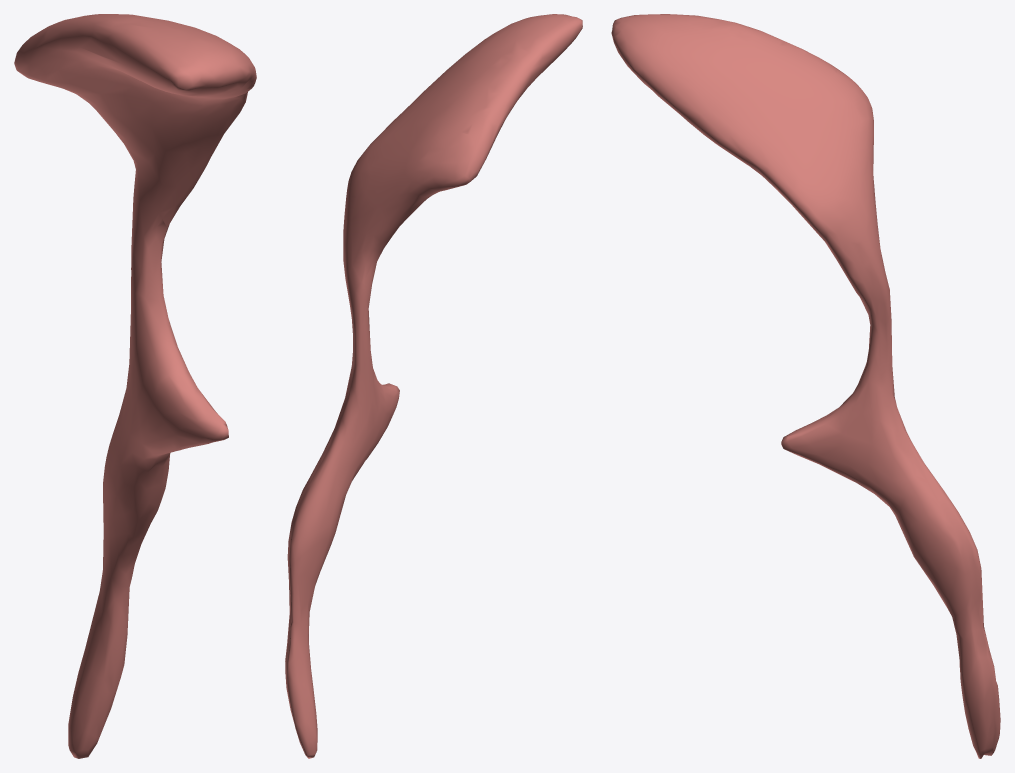
The model's file is fma46672_mm1255.glb.
3 renders of one model, left to right at view 1: azimuth 30°, elevation 25°; view 2: azimuth 150°, elevation 25°; view 3: azimuth 270°, elevation 25°, orthographic. The views are drawn at different scales.
Parts seen in each view (by area): view 1: FMA46672_MM1255; view 2: FMA46672_MM1255; view 3: FMA46672_MM1255.
Boxes of the visible parts, <box> form: FMA46672_MM1255: <box>14,14,256,758</box>; FMA46672_MM1255: <box>285,14,582,758</box>; FMA46672_MM1255: <box>611,14,1000,758</box>.
Size of the model in its own units: 0.0182 by 0.0773 by 0.0394.
